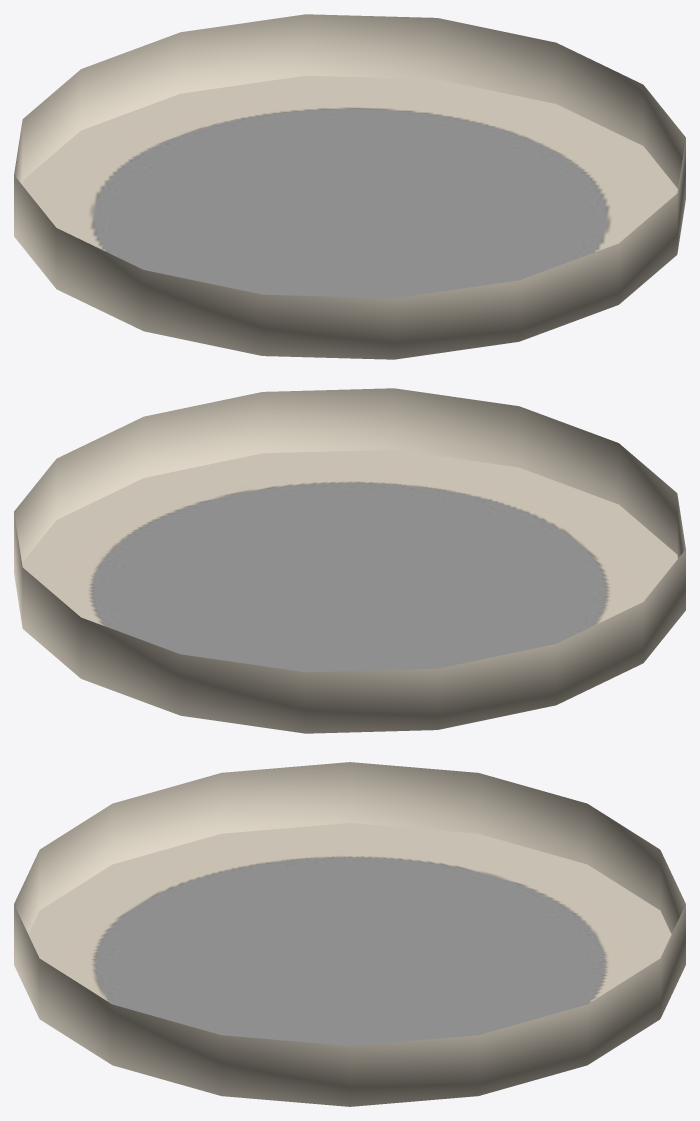
Rendered from BTMT_PNGT_Dentu2.fbx.
3 renders of one model, top to bottom at view 1: azimuth 30°, elevation 25°; view 2: azimuth 150°, elevation 25°; view 3: azimuth 270°, elevation 25°, orthographic.
Visible parts, largest first — view 1: L_BTMT_PNGT_Dentu_BTMT_PNGT_Dentu2; view 2: L_BTMT_PNGT_Dentu_BTMT_PNGT_Dentu2; view 3: L_BTMT_PNGT_Dentu_BTMT_PNGT_Dentu2.
Boxes of the visible parts, x1=… form: L_BTMT_PNGT_Dentu_BTMT_PNGT_Dentu2: x1=14, y1=14, x2=685, y2=359; L_BTMT_PNGT_Dentu_BTMT_PNGT_Dentu2: x1=14, y1=388, x2=685, y2=733; L_BTMT_PNGT_Dentu_BTMT_PNGT_Dentu2: x1=14, y1=762, x2=685, y2=1106.
Size of the model in its own units: 11.15 by 1.11 by 11.15.
